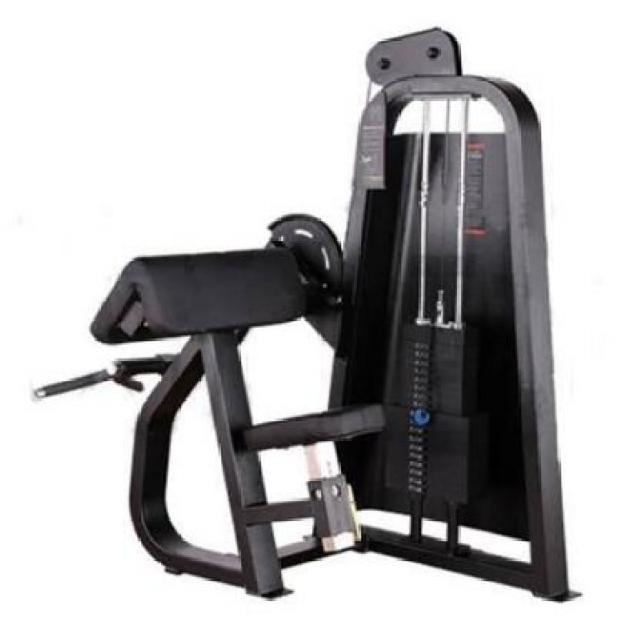arm curl machine: (32, 28, 585, 604)
